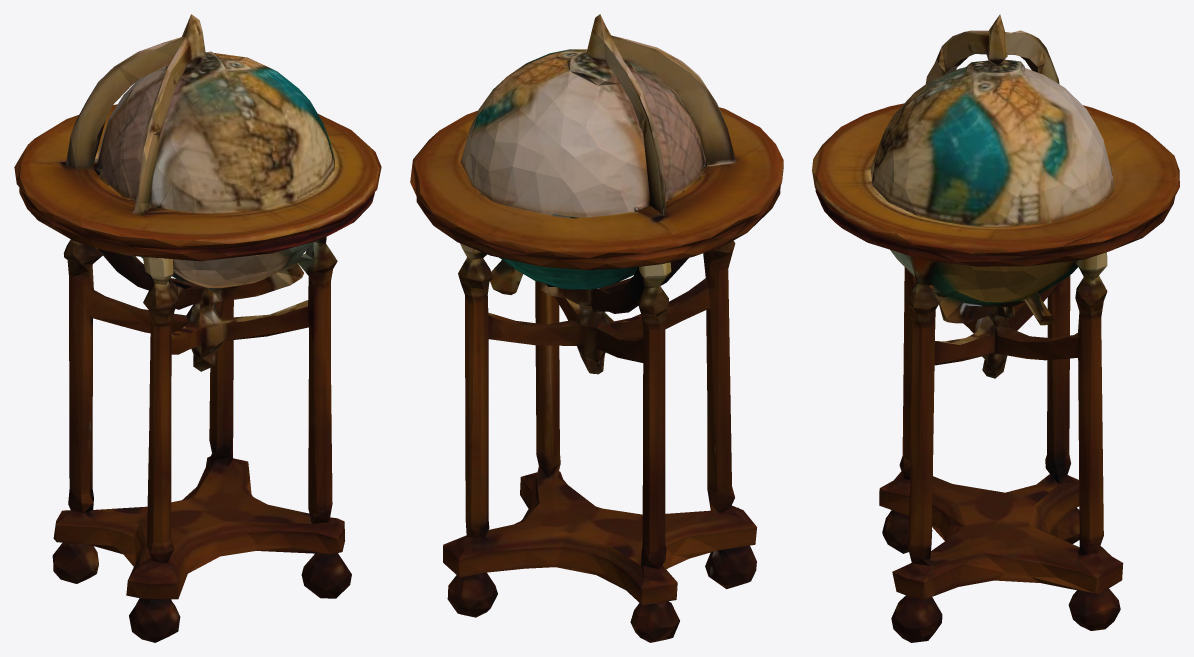
Rendered from library_globe.glb.
3 views of the same model, side by side, from view 1: azimuth 30°, elevation 25°; view 2: azimuth 150°, elevation 25°; view 3: azimuth 270°, elevation 25° (orthographic). The views are drawn at different scales.
Parts seen in each view (by area): view 1: textured_mesh.obj; view 2: textured_mesh.obj; view 3: textured_mesh.obj.
Boxes of the visible parts, left/top/right/bottom form: textured_mesh.obj: left=14, top=14, right=381, bottom=642; textured_mesh.obj: left=410, top=14, right=783, bottom=642; textured_mesh.obj: left=812, top=14, right=1179, bottom=642.
Size of the model in its own units: 0.7483 by 1.3 by 0.7515.
1 material, 1 textured.
